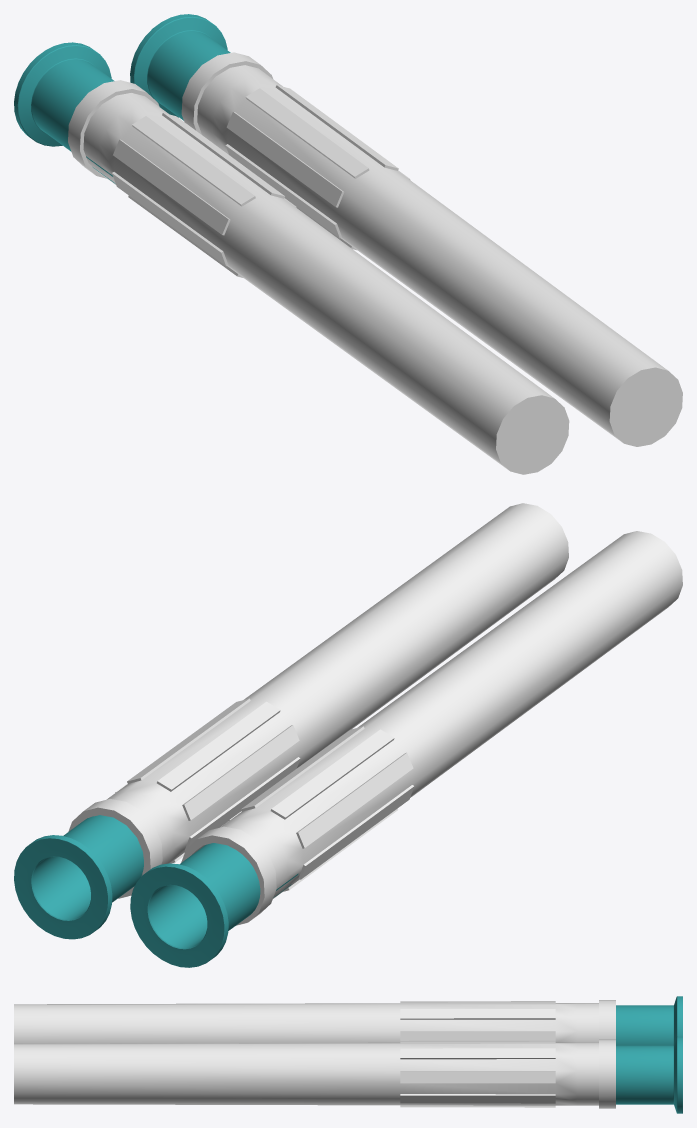
Rendered from Kimtiem.fbx.
3 renders of one model, top to bottom at view 1: azimuth 30°, elevation 25°; view 2: azimuth 150°, elevation 25°; view 3: azimuth 270°, elevation 25°, orthographic. The views are drawn at different scales.
Parts seen in each view (by area): view 1: Napkimlaythuoc, Napkimtiem, Kimlaythuoc, Kimtiem; view 2: Napkimlaythuoc, Napkimtiem, Kimlaythuoc, Kimtiem; view 3: Napkimtiem, Napkimlaythuoc, Kimtiem, Kimlaythuoc.
Boxes of the visible parts, x1,y1,x2,y2 form: Napkimlaythuoc: (68, 80, 569, 474); Napkimtiem: (181, 52, 682, 446); Kimlaythuoc: (14, 42, 115, 183); Kimtiem: (130, 14, 230, 120); Napkimlaythuoc: (181, 531, 682, 925); Napkimtiem: (68, 503, 568, 898); Kimlaythuoc: (130, 843, 298, 967); Kimtiem: (14, 815, 143, 939); Napkimtiem: (14, 1039, 615, 1108); Napkimlaythuoc: (14, 1000, 615, 1043); Kimtiem: (616, 1036, 682, 1113); Kimlaythuoc: (616, 996, 682, 1045).
Bounding box in the file's own units: 1.59 × 0.7148 × 6.16.
Materials: 1 (1 with a texture image).
